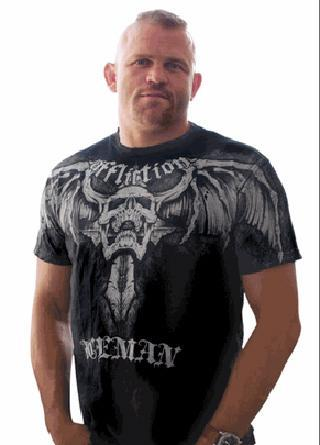T-shirt: (28, 109, 306, 445)
